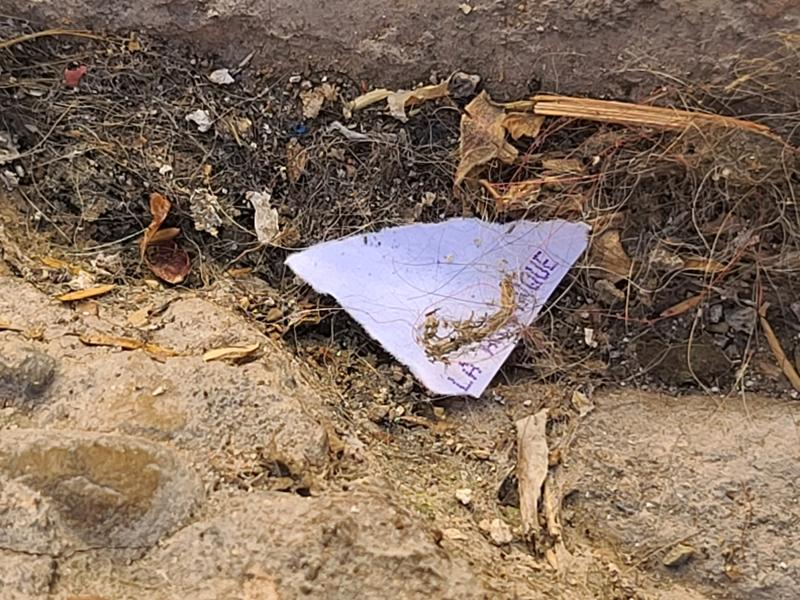papel: (283, 218, 592, 400)
